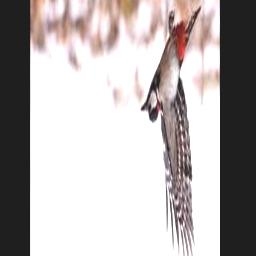Woodpecker: (141, 3, 201, 256)
